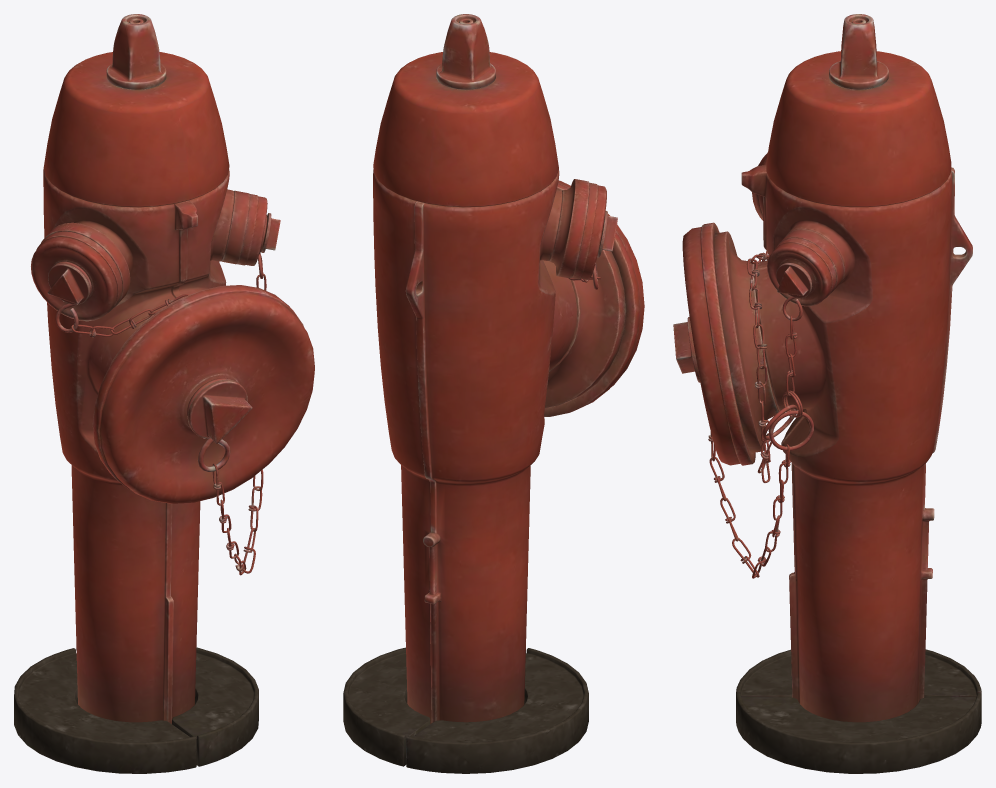
The model's file is fire-hydrant.glb.
3 views of the same model, side by side, from view 1: azimuth 30°, elevation 25°; view 2: azimuth 150°, elevation 25°; view 3: azimuth 270°, elevation 25° (orthographic).
Parts seen in each view (by area): view 1: fire_hydrant, fire_hydrant_cap_01, fire_hydrant_cap_03, fire_hydrant_chain, fire_hydrant_cap_02; view 2: fire_hydrant, fire_hydrant_cap_01, fire_hydrant_cap_03; view 3: fire_hydrant, fire_hydrant_cap_01, fire_hydrant_chain, fire_hydrant_cap_02.
Boxes of the visible parts, <box> form: fire_hydrant: <box>14,14,258,773</box>; fire_hydrant_cap_01: <box>92,285,314,503</box>; fire_hydrant_cap_03: <box>31,231,122,321</box>; fire_hydrant_chain: <box>55,215,267,575</box>; fire_hydrant_cap_02: <box>237,194,280,265</box>; fire_hydrant: <box>343,14,625,773</box>; fire_hydrant_cap_01: <box>544,180,644,416</box>; fire_hydrant_cap_03: <box>572,182,617,279</box>; fire_hydrant: <box>714,14,981,773</box>; fire_hydrant_cap_01: <box>673,222,755,465</box>; fire_hydrant_chain: <box>708,250,813,578</box>; fire_hydrant_cap_02: <box>767,238,836,306</box>.
Size of the model in its own units: 0.2746 by 0.7995 by 0.3177.
1 material, 1 textured.
